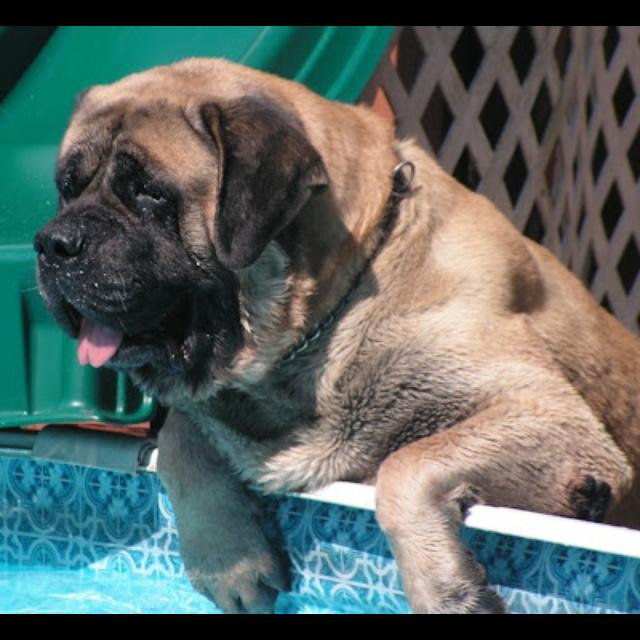mastiff: (31, 56, 639, 614)
